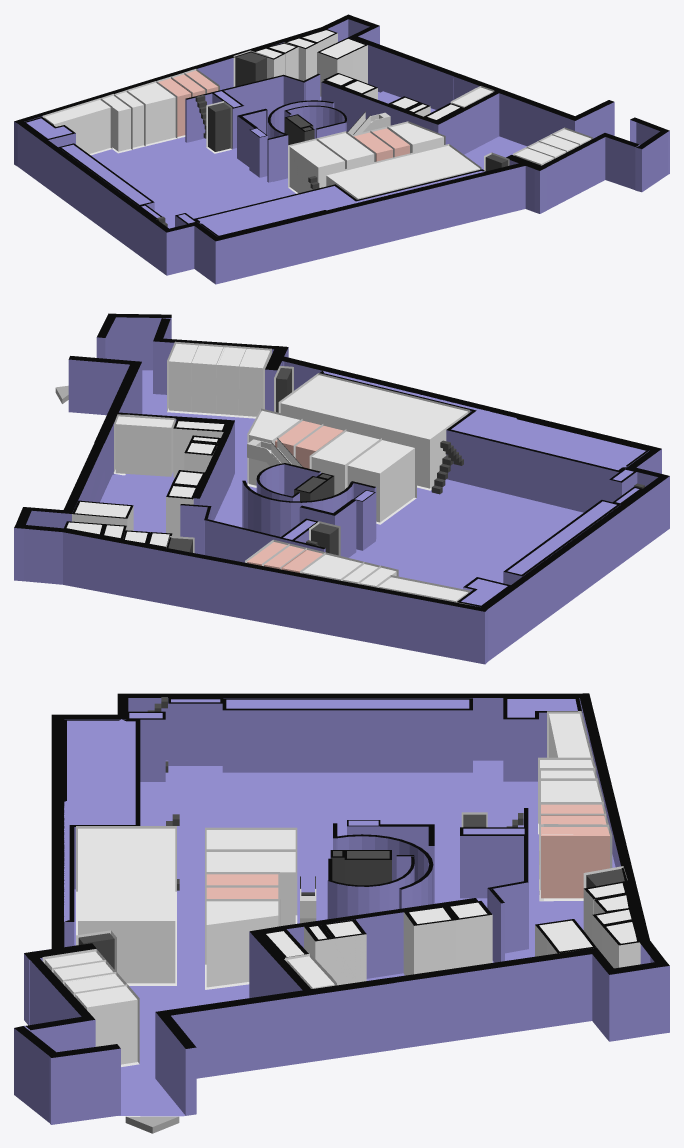
3 renders of one model, top to bottom at view 1: azimuth 30°, elevation 25°; view 2: azimuth 150°, elevation 25°; view 3: azimuth 270°, elevation 25°, orthographic. The views are drawn at different scales.
Visible parts, largest first — view 1: object, room_9_3_12, room_9_3_10, room_9_3_7, room_9_3_1, room_9_3_3, room_9_3_9, エレベーター_9_3_1, room_9_3_11, 休憩所_9_3_1, エレベーター_9_3_4, room_9_3_6 (+8 smaller); view 2: object, room_9_3_12, room_9_3_10, room_9_3_9, room_9_3_1, room_9_3_13, room_9_3_8, room_9_3_11, object_001.003, room_9_3_6, room_9_3_7, object_001.004 (+11 smaller); view 3: object, room_9_3_12, room_9_3_10, room_9_3_9, room_9_3_6, トイレ_9_3_5, object_001, room_9_3_11, object_001.004, object_001.001, エレベーター_9_3_2, room_9_3_1 (+14 smaller).
Part boxes in pixels (x1,y1,x2,y2): object: (14, 14, 669, 284); room_9_3_12: (118, 150, 290, 228); room_9_3_10: (326, 145, 479, 199); room_9_3_7: (44, 100, 110, 153); room_9_3_1: (289, 140, 344, 193); room_9_3_3: (128, 83, 175, 144); room_9_3_9: (514, 129, 591, 165); エレベーター_9_3_1: (208, 102, 230, 151); room_9_3_11: (319, 133, 374, 168); 休憩所_9_3_1: (102, 95, 130, 151); エレベーター_9_3_4: (235, 52, 266, 86); room_9_3_6: (390, 123, 443, 152); object: (14, 313, 669, 664); room_9_3_12: (349, 494, 563, 588); room_9_3_10: (280, 375, 468, 488); room_9_3_9: (169, 343, 270, 416); room_9_3_1: (347, 440, 414, 522); room_9_3_13: (115, 416, 174, 476); room_9_3_8: (100, 474, 173, 532); room_9_3_11: (311, 431, 379, 495); object_001.003: (173, 419, 226, 477); room_9_3_6: (249, 410, 299, 485); room_9_3_7: (378, 577, 467, 604); object_001.004: (166, 484, 197, 536); object: (14, 693, 669, 1124); room_9_3_12: (182, 775, 473, 892); room_9_3_10: (78, 828, 175, 983); room_9_3_9: (45, 951, 137, 1064); room_9_3_6: (206, 901, 278, 987); トイレ_9_3_5: (541, 827, 609, 898); object_001: (403, 906, 456, 975); room_9_3_11: (206, 852, 295, 926); object_001.004: (445, 901, 492, 967); object_001.001: (321, 919, 366, 985); エレベーター_9_3_2: (330, 850, 391, 885); room_9_3_1: (206, 830, 295, 849).
Bounding box in the file's own units: 2.1 × 0.2582 × 1.56.
